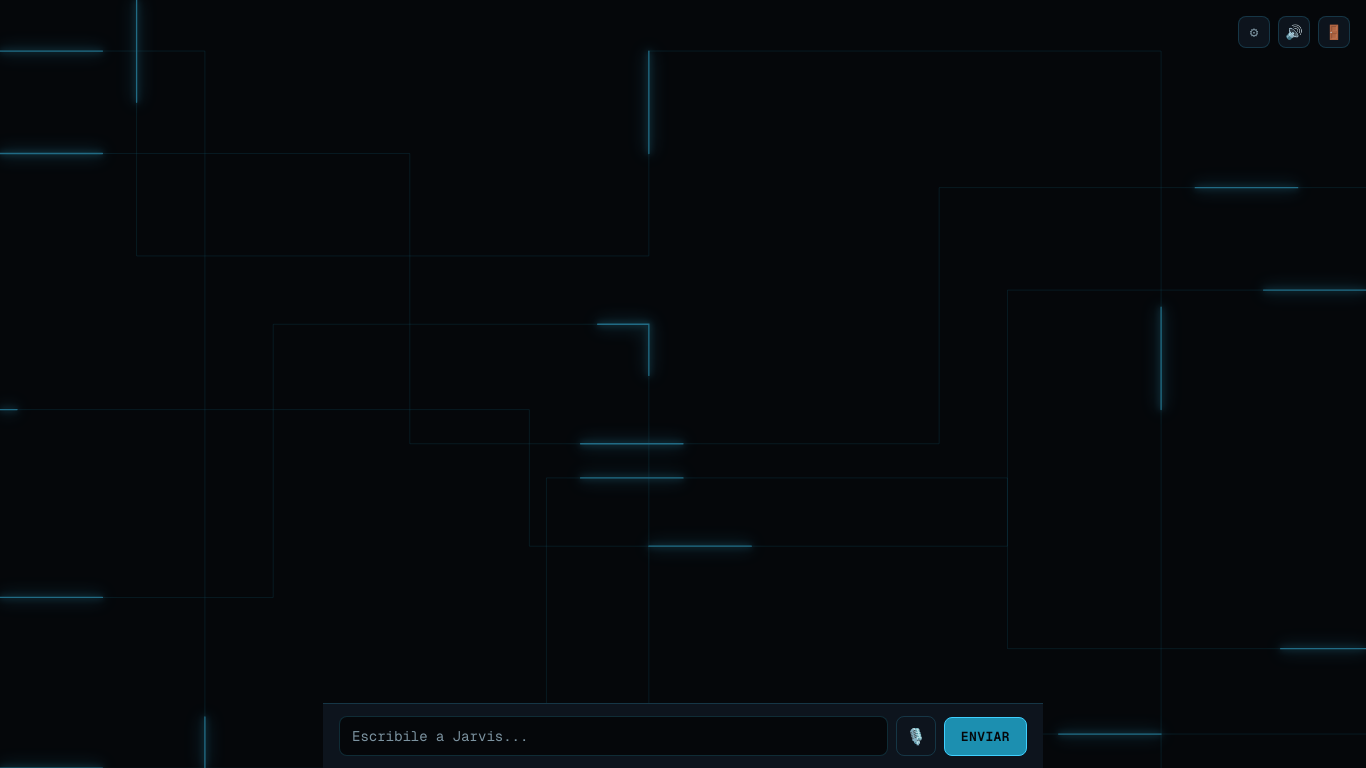
it: ChatWindow › shows a confirmation banner when the API asks for confirmation
The image size is (1366, 768).
Type "mandale un mail a juan" into the field with placeholder "Escribile a Jarvis..." at [613, 736], box 339,716 -> 888,756
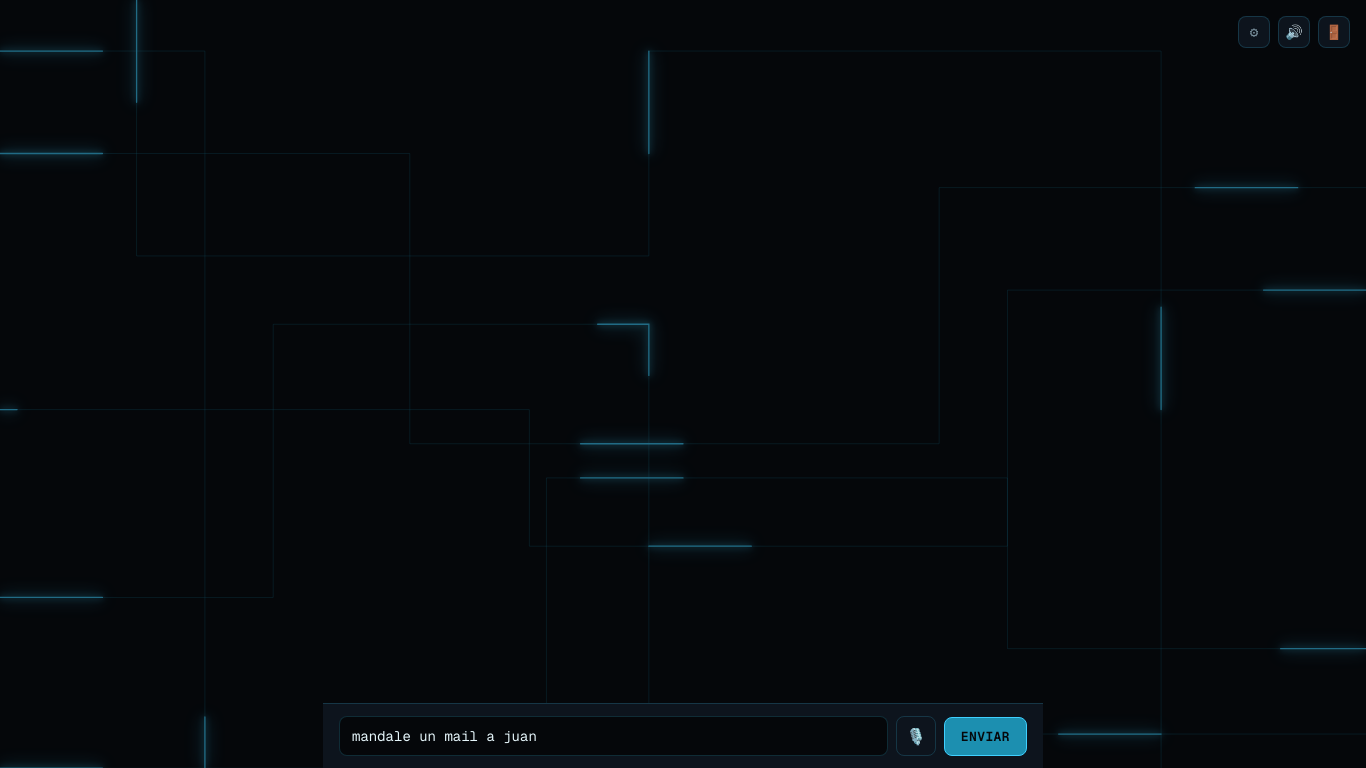
Click the button "Enviar" at [985, 736], box 944,716 -> 1027,756
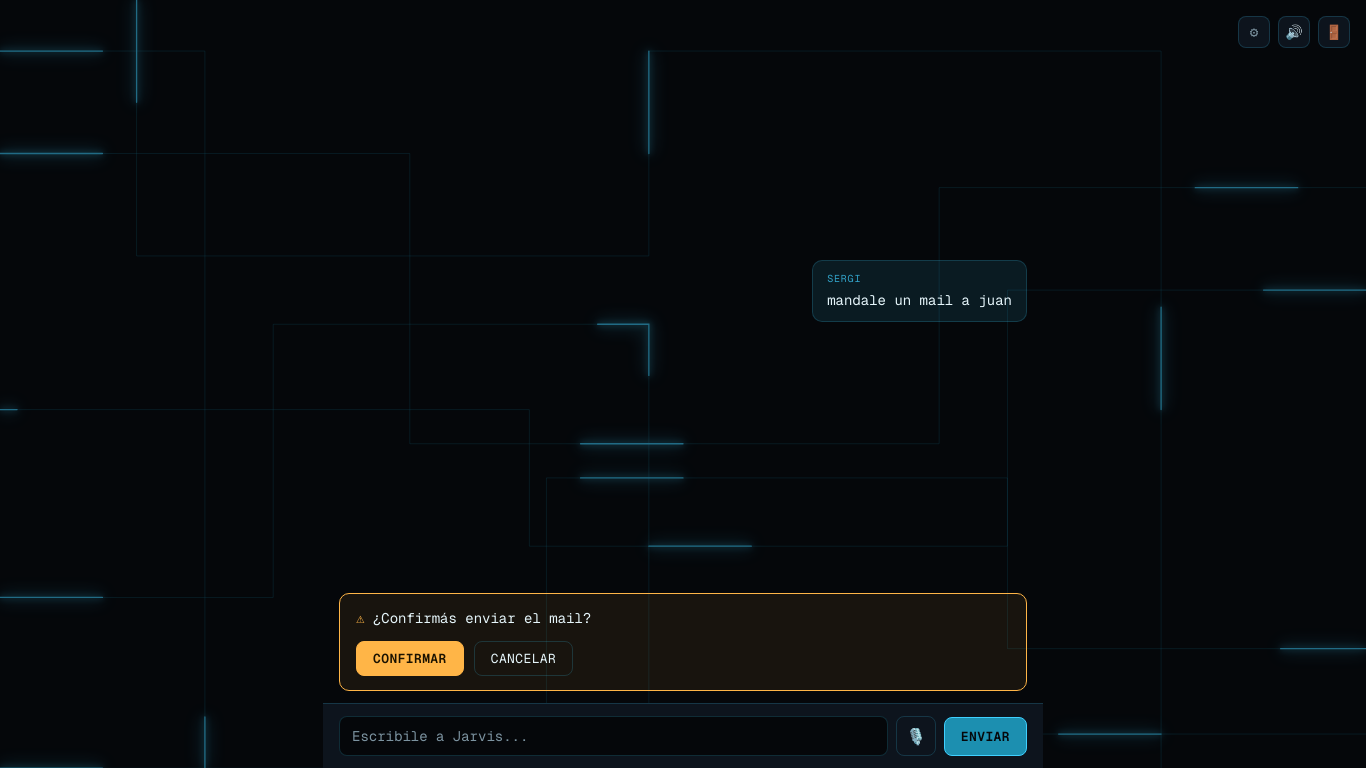
Check: the text "¿Confirmás enviar el mail?" is shown, box 373,609 -> 591,627
Check: the button "Confirmar" is shown, box 356,641 -> 464,676
Check: the button "Cancelar" is shown, box 474,641 -> 573,676
